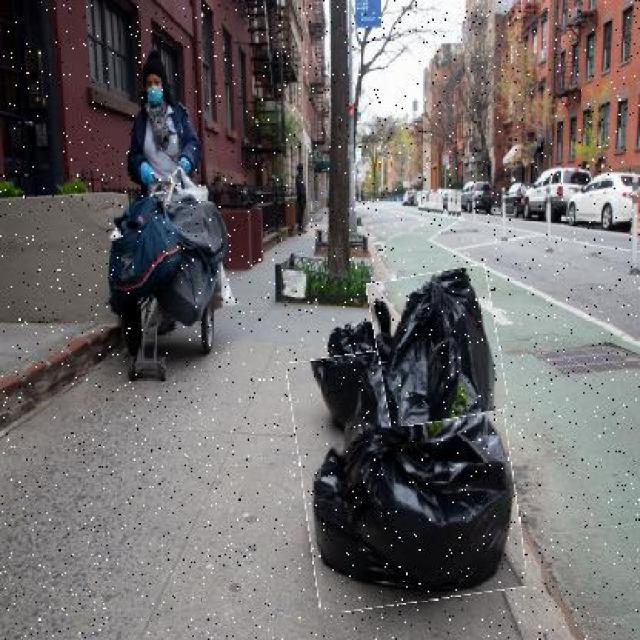waste: (294, 341, 520, 608), (373, 268, 504, 423)
